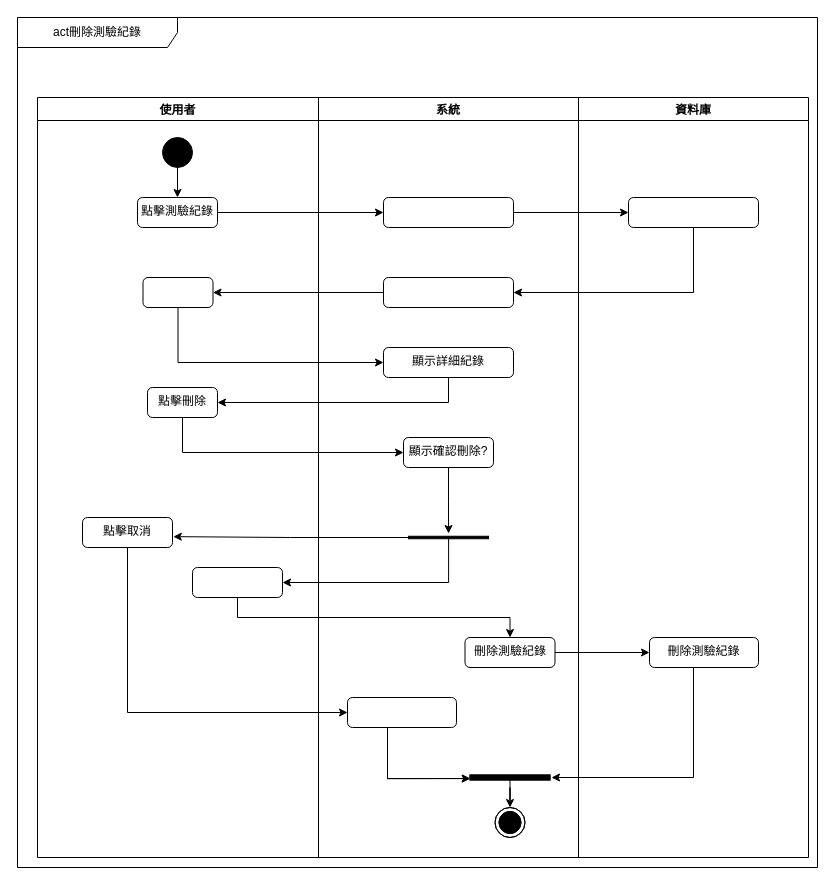
Some shapes in this 835 by 885 pixel diagram are drawn without their labels. The shapes that lost their labels are listed below. From the top down, each one's centre as x and y in pixels, then its label:
At (448,212): "至資料庫查詢測驗紀錄".
At (693,212): "查詢測驗紀錄".
At (177,292): "點擊紀錄".
At (448,292): "顯示測驗紀錄".
At (237,582): "點擊確認".
At (401,712): "不刪除測驗紀錄".
